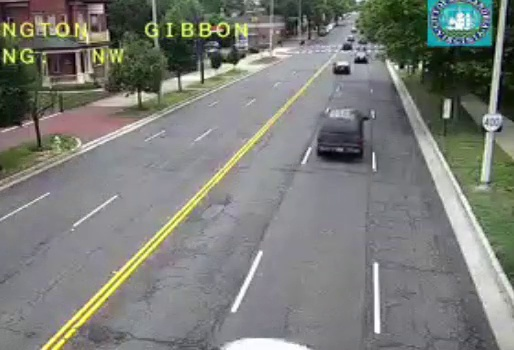car: (317, 108, 363, 158), (333, 61, 350, 73)
